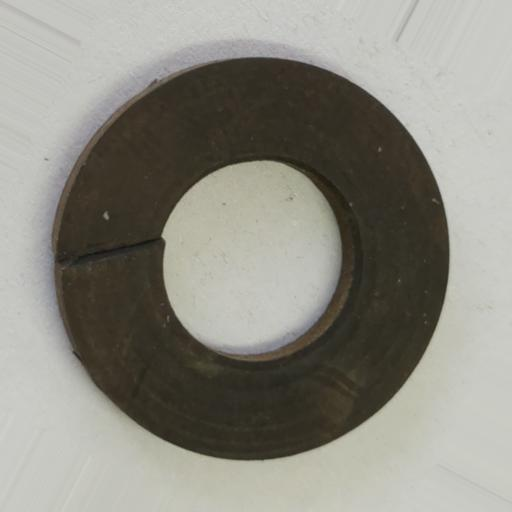defect: (62, 236, 165, 270)
